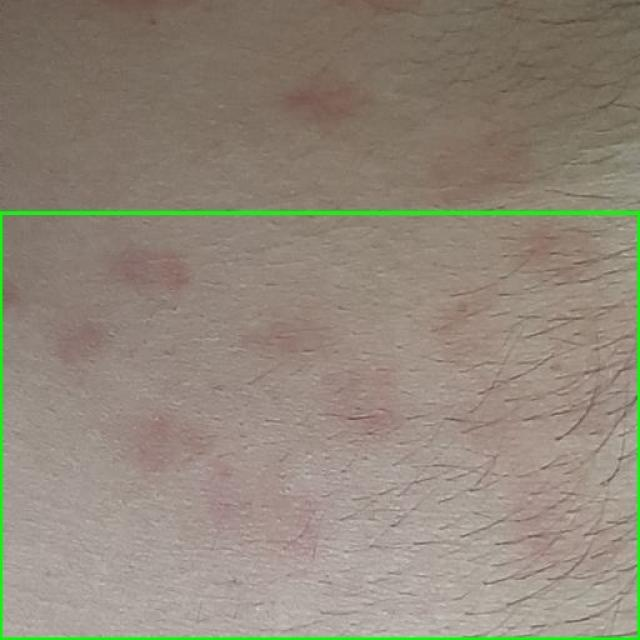Tinea Corporis: (0, 212, 639, 639)
